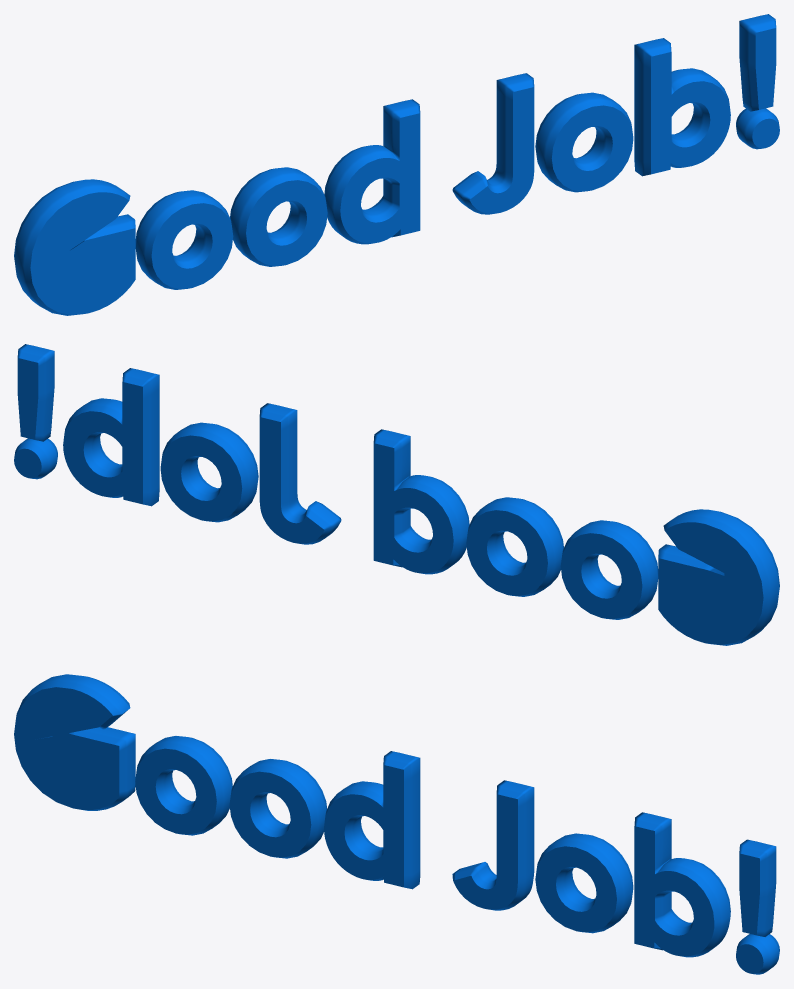
Rendered from Good_Job.fbx.
3 renders of one model, top to bottom at view 1: azimuth 30°, elevation 25°; view 2: azimuth 150°, elevation 25°; view 3: azimuth 330°, elevation 25°, orthographic.
Visible parts, largest first — view 1: bevelPolygon2, bevelPolygon5, bevelPolygon8, bevelPolygon7, bevelPolygon3, bevelPolygon4, bevelPolygon6, bevelPolygon10, bevelPolygon11; view 2: bevelPolygon2, bevelPolygon5, bevelPolygon8, bevelPolygon7, bevelPolygon3, bevelPolygon4, bevelPolygon6, bevelPolygon10, bevelPolygon11; view 3: bevelPolygon2, bevelPolygon8, bevelPolygon5, bevelPolygon7, bevelPolygon4, bevelPolygon3, bevelPolygon6, bevelPolygon10, bevelPolygon11.
Boxes of the visible parts, box(x1,y1,x2,y2) form: bevelPolygon2: box(14, 179, 135, 315); bevelPolygon5: box(324, 99, 420, 244); bevelPolygon8: box(634, 38, 730, 176); bevelPolygon7: box(535, 92, 633, 192); bevelPolygon3: box(135, 190, 233, 289); bevelPolygon4: box(230, 167, 327, 266); bevelPolygon6: box(452, 73, 534, 214); bevelPolygon10: box(739, 14, 776, 111); bevelPolygon11: box(736, 108, 779, 149); bevelPolygon2: box(658, 509, 779, 645); bevelPolygon5: box(373, 429, 469, 574); bevelPolygon8: box(63, 368, 159, 506); bevelPolygon7: box(160, 422, 258, 522); bevelPolygon3: box(560, 520, 658, 619); bevelPolygon4: box(466, 497, 563, 596); bevelPolygon6: box(259, 403, 341, 544); bevelPolygon10: box(17, 344, 54, 441); bevelPolygon11: box(14, 438, 57, 479); bevelPolygon2: box(14, 674, 135, 810); bevelPolygon8: box(634, 812, 730, 957); bevelPolygon5: box(324, 751, 420, 889); bevelPolygon7: box(535, 833, 633, 933); bevelPolygon4: box(229, 759, 326, 858); bevelPolygon3: box(135, 736, 232, 835); bevelPolygon6: box(452, 780, 534, 910); bevelPolygon10: box(739, 839, 776, 936); bevelPolygon11: box(736, 934, 779, 974).
Bounding box in the file's own units: 18.64 × 3.01 × 0.7.
